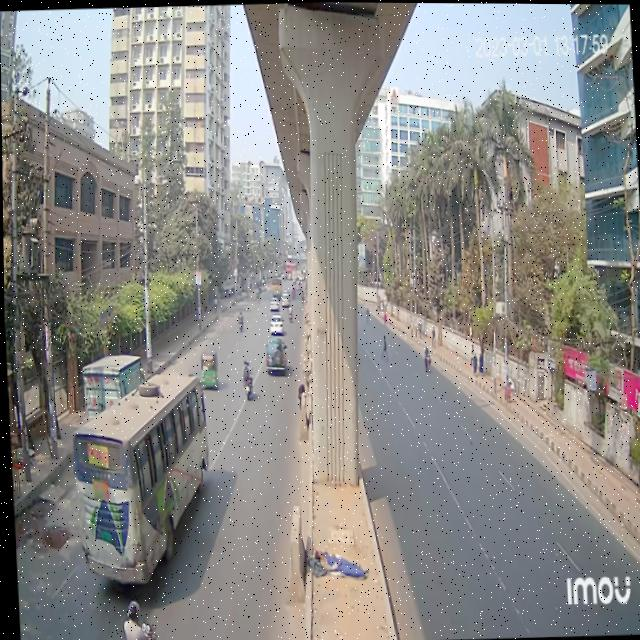cng: (198, 350, 220, 394)
